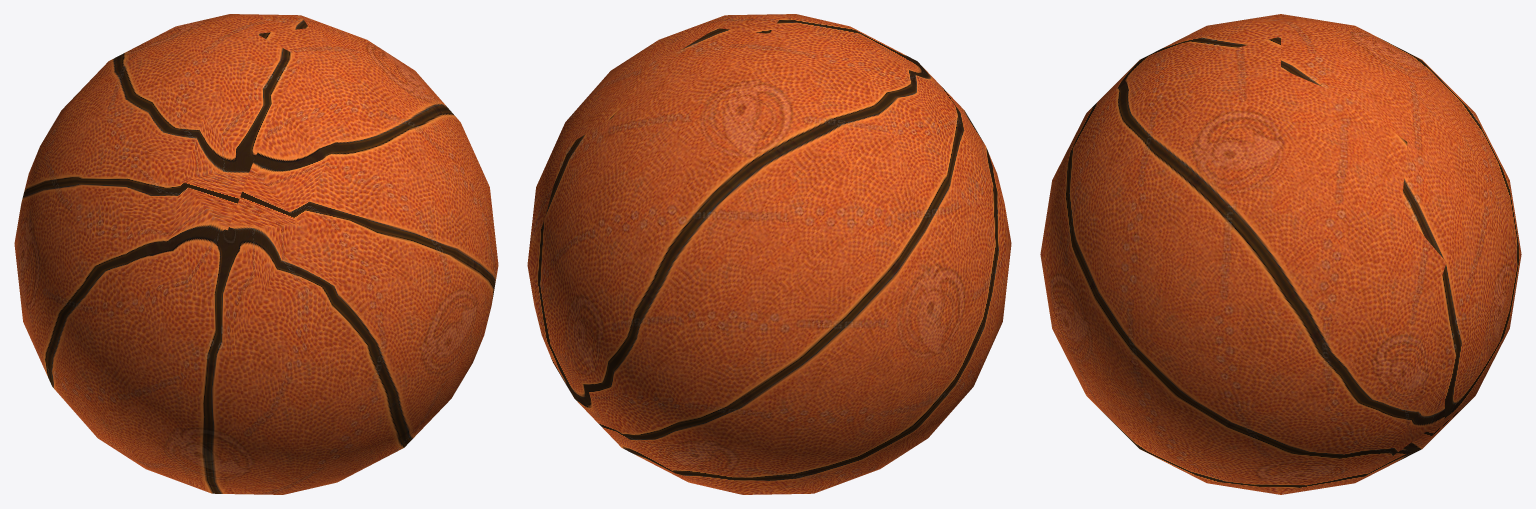
The model's file is ball.obj.
3 renders of one model, left to right at view 1: azimuth 30°, elevation 25°; view 2: azimuth 150°, elevation 25°; view 3: azimuth 270°, elevation 25°, orthographic.
Parts seen in each view (by area): view 1: Ball_Icosphere; view 2: Ball_Icosphere; view 3: Ball_Icosphere.
Boxes of the visible parts, box(x1,y1,x2,y2) form: Ball_Icosphere: box(14, 14, 498, 494); Ball_Icosphere: box(527, 14, 1011, 494); Ball_Icosphere: box(1040, 14, 1521, 494).
Size of the model in its own units: 2 by 2 by 2.
Materials: 1 (1 with a texture image).
